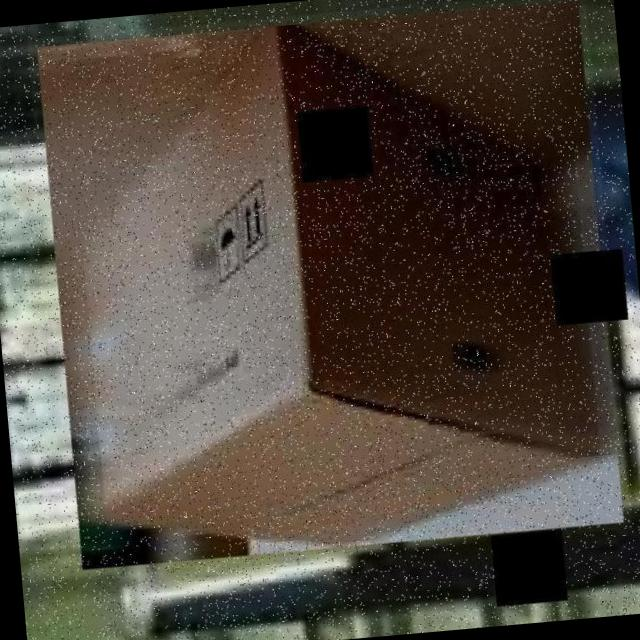box: (27, 0, 632, 577)
